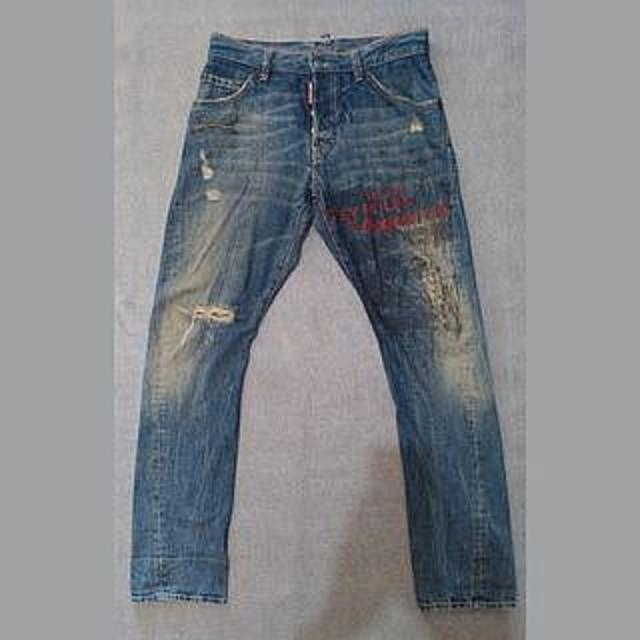TROUSER: (121, 26, 526, 618)
